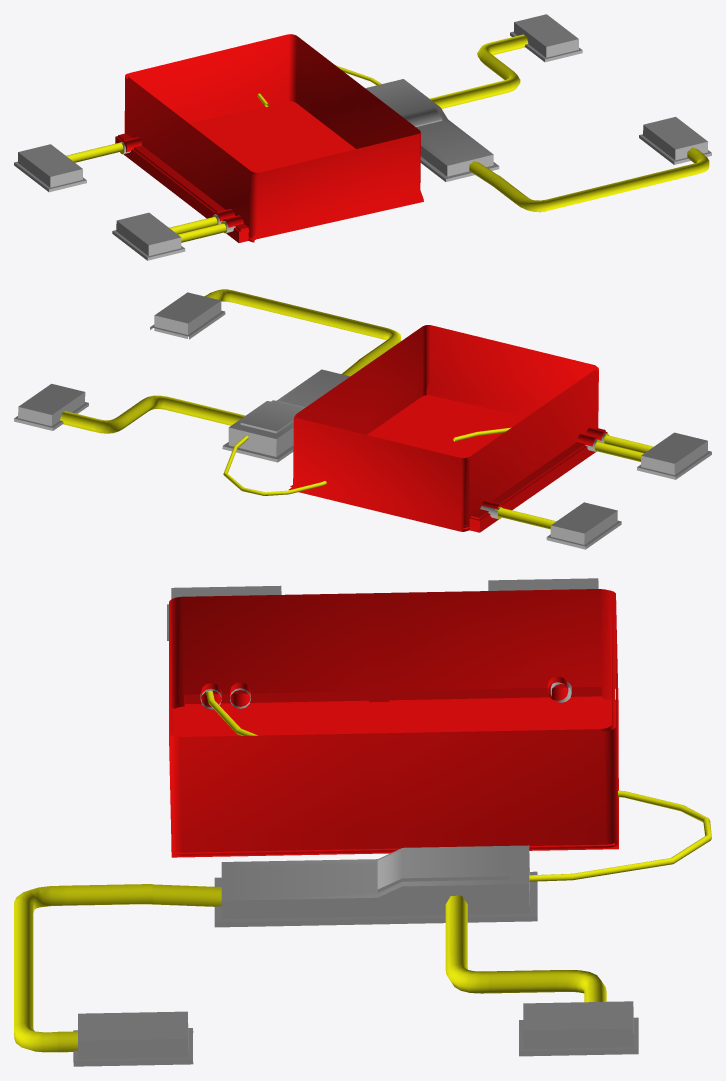
The model's file is cajaRota.fbx.
3 views of the same model, one above another, from view 1: azimuth 30°, elevation 25°; view 2: azimuth 150°, elevation 25°; view 3: azimuth 270°, elevation 25° (orthographic). The views are drawn at different scales.
Parts seen in each view (by area): view 1: Caja, Caja2, Cable2, Cable5, Cable4; view 2: Caja, Caja2, Cable1, Cable2, Cable4, Cable5; view 3: Caja, Caja2, Cable1.
Part boxes in pixels (bbox=[...]): Caja: bbox=[14, 14, 711, 260]; Caja2: bbox=[118, 34, 423, 239]; Cable2: bbox=[66, 142, 123, 162]; Cable5: bbox=[178, 223, 226, 242]; Cable4: bbox=[169, 217, 217, 234]; Caja: bbox=[14, 289, 711, 549]; Caja2: bbox=[290, 325, 606, 526]; Cable1: bbox=[223, 435, 326, 495]; Cable2: bbox=[495, 507, 556, 529]; Cable4: bbox=[595, 442, 643, 461]; Cable5: bbox=[604, 435, 653, 453]; Caja: bbox=[14, 578, 638, 1066]; Caja2: bbox=[169, 589, 614, 853]; Cable1: bbox=[529, 790, 711, 881].
Bounding box in the file's own units: 0.9261 × 0.1214 × 0.6034.
